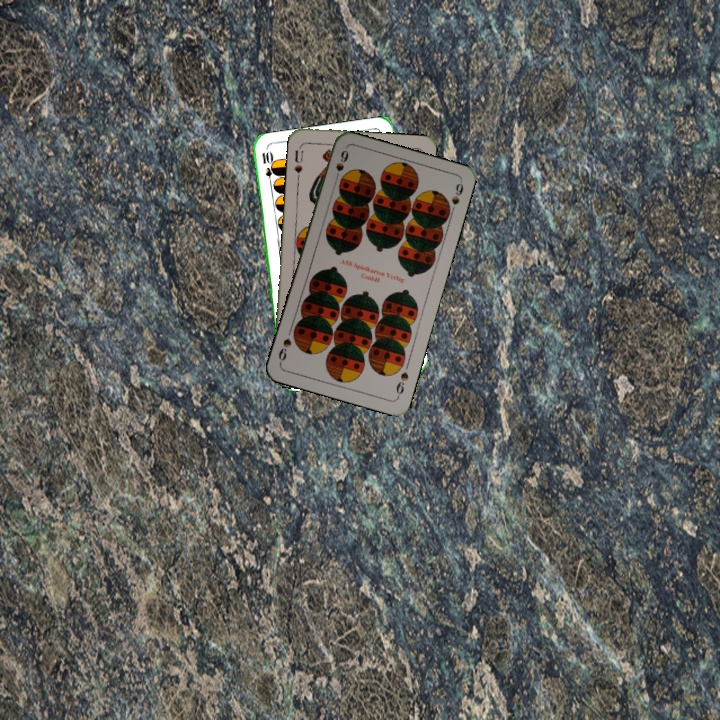E10: (258, 147, 276, 188)
S9: (331, 146, 351, 185), (392, 368, 411, 400)
SU: (290, 142, 306, 183)
